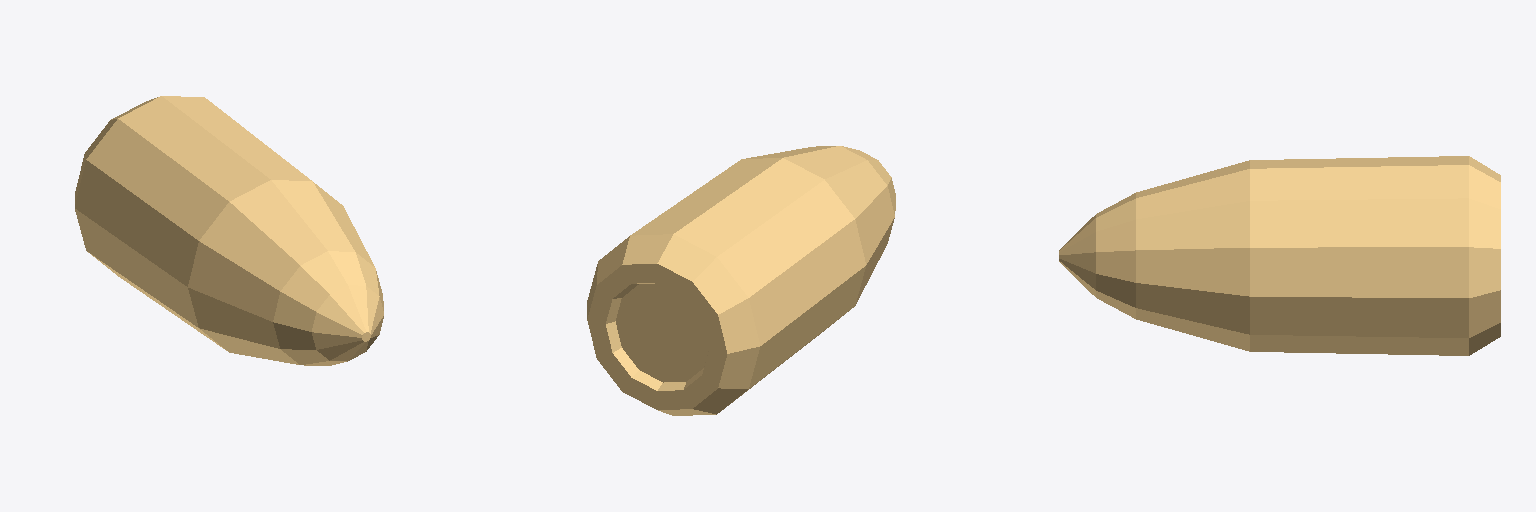
File: wiiTank_bullet.obj
The picture shows the model from 3 angles: view 1: azimuth 30°, elevation 25°; view 2: azimuth 150°, elevation 25°; view 3: azimuth 270°, elevation 25°; orthographic projection.
Visible parts, largest first — view 1: Bullet_Cylinder.010; view 2: Bullet_Cylinder.010; view 3: Bullet_Cylinder.010.
Part boxes in pixels (x1,y1,x2,y2): Bullet_Cylinder.010: (75,96,383,365); Bullet_Cylinder.010: (587,146,895,415); Bullet_Cylinder.010: (1059,156,1500,355).
Size of the model in its own units: 0.6405 by 0.6405 by 1.41.